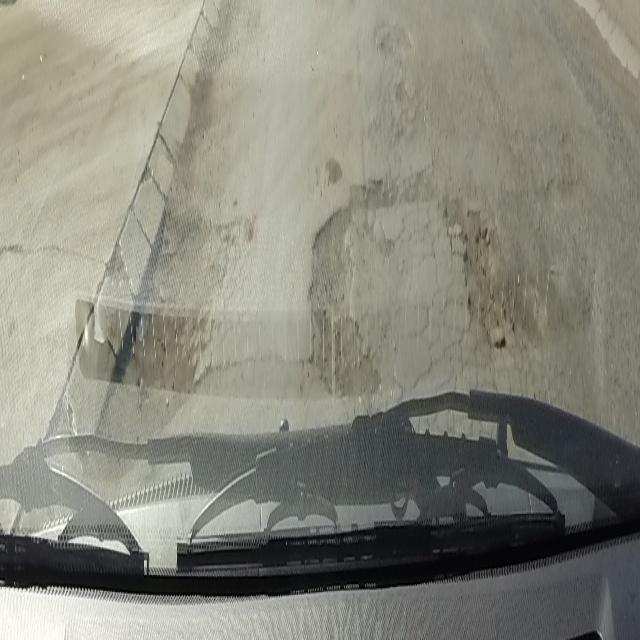pothole: (122, 220, 198, 476), (308, 168, 389, 408), (444, 196, 526, 358)
